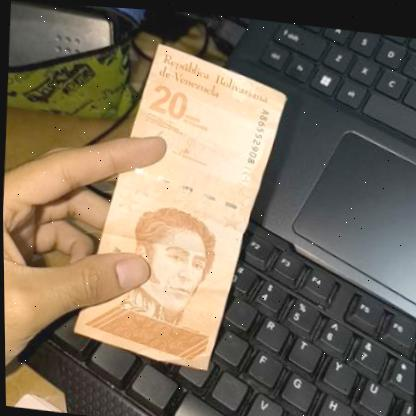twenty-front-vef: (69, 31, 291, 376)
